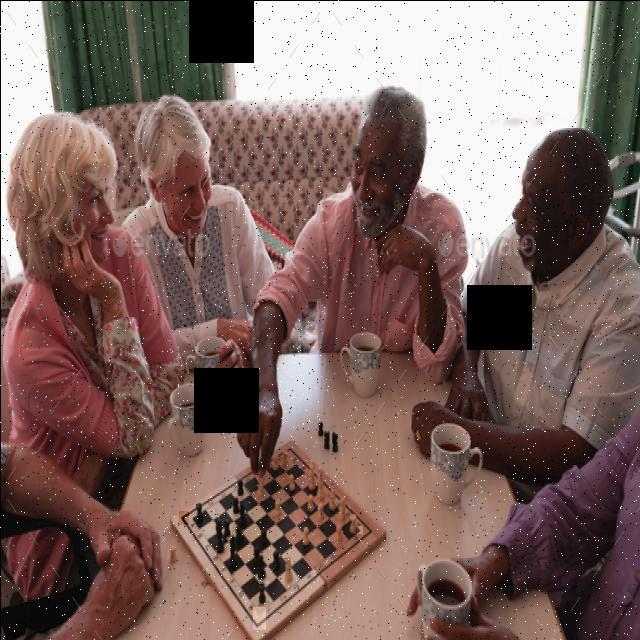chess-table-corners: (252, 606, 265, 629), (178, 510, 188, 524), (356, 525, 362, 533), (287, 442, 292, 450)
